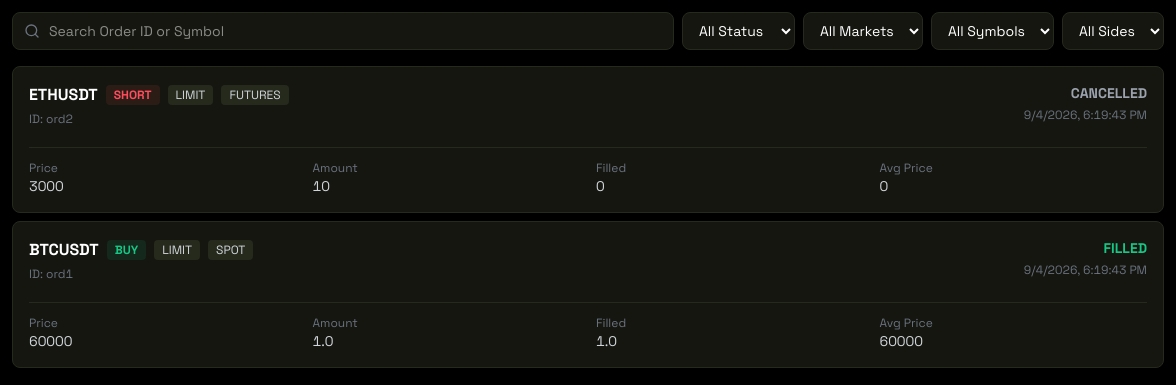
Scenario: OrderHistory Component (F21C) › 3. Filters orders correctly
The image size is (1176, 385).
Filter by symbol
Select "BTCUSDT" in the 3rd dropdown showing "All Symbols": (992, 31) [931,12,1054,50]
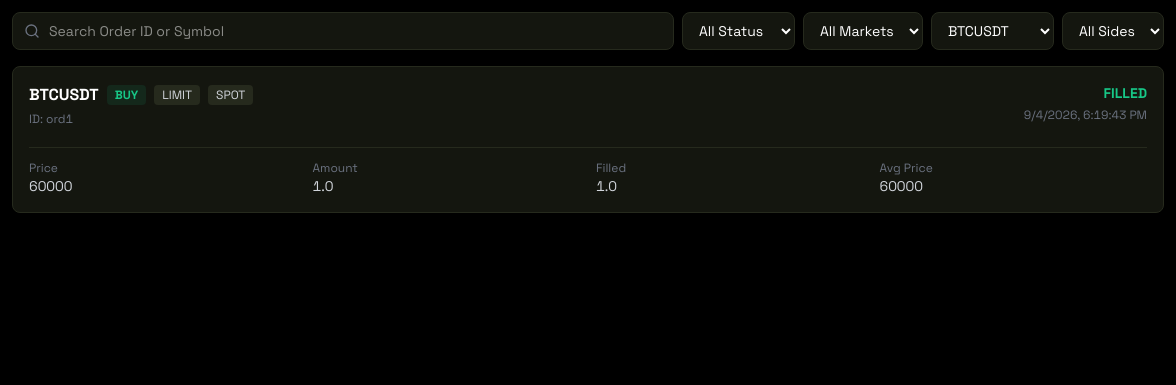
Expected: the text "ID: ord1" is shown, [29,111,73,127]
Expected: the text "ID: ord2" is gone
Reset symbol, filter by status
Select "All Symbols" in the 3rd dropdown showing "All Symbols": (992, 31) [931,12,1054,50]
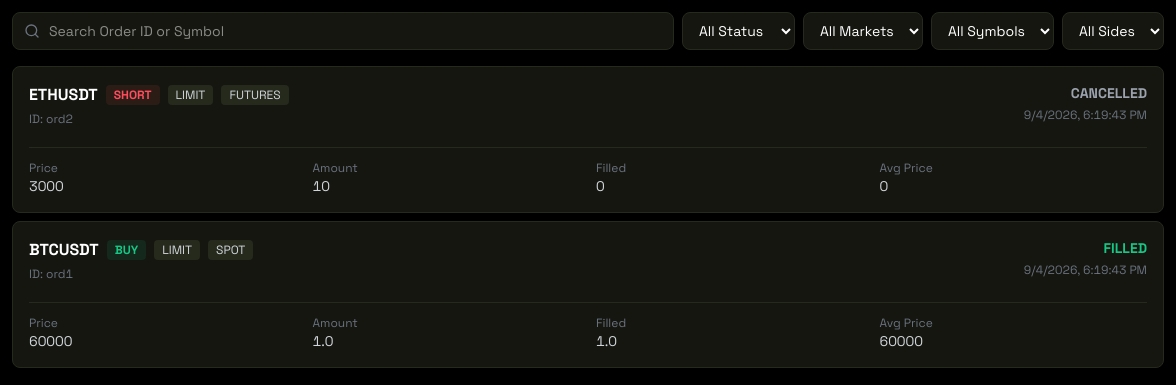
Select "Cancelled" in the 1st dropdown showing "All Status": (738, 31) [682,12,795,50]
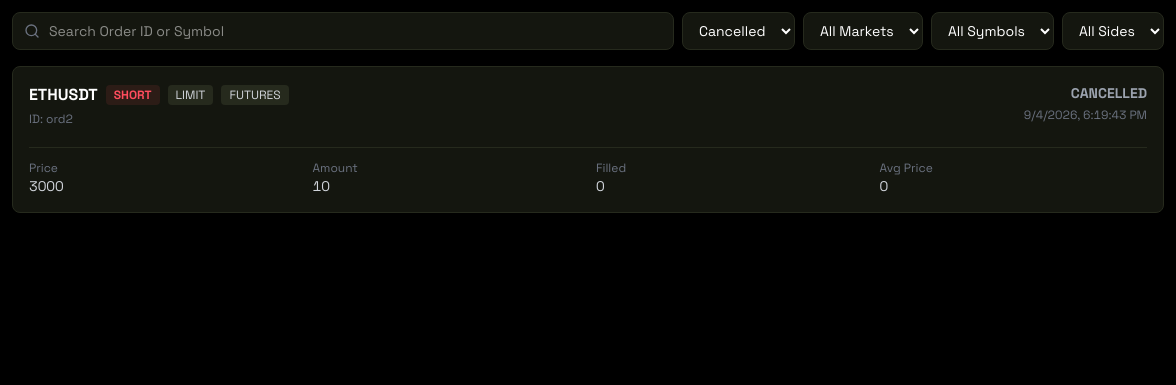
Expected: the text "ID: ord2" is shown, [29,111,73,127]
Expected: the text "ID: ord1" is gone
Select "All Status" in the 1st dropdown showing "All Status": (738, 31) [682,12,795,50]
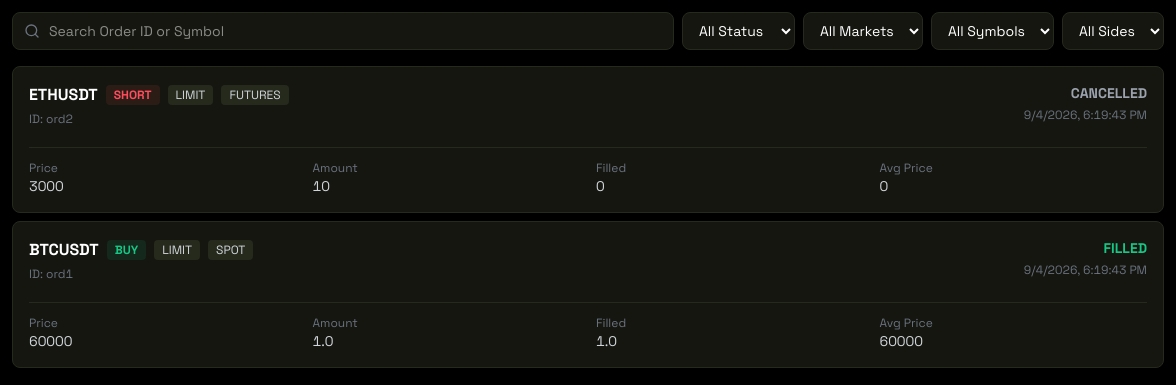
Select "Sell" in the 4th dropdown showing "All Sides": (1113, 31) [1062,12,1164,50]
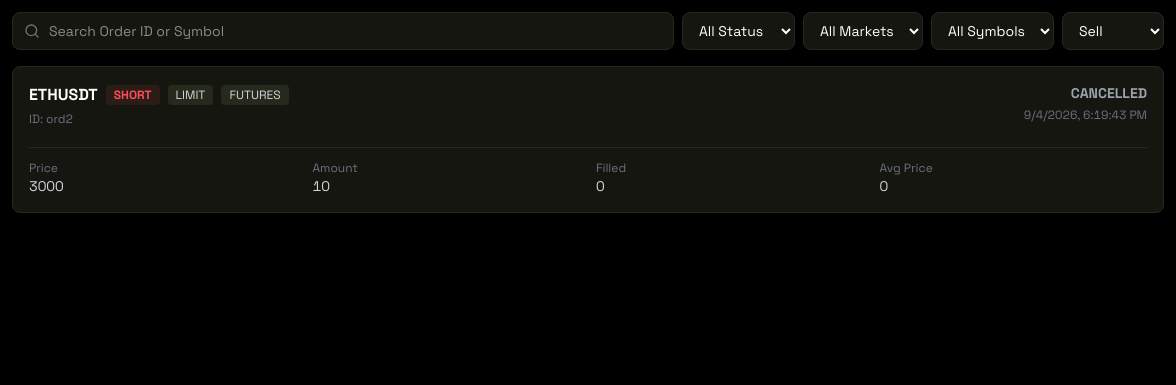
Expected: the text "ID: ord2" is shown, [29,111,73,127]
Expected: the text "ID: ord1" is gone
